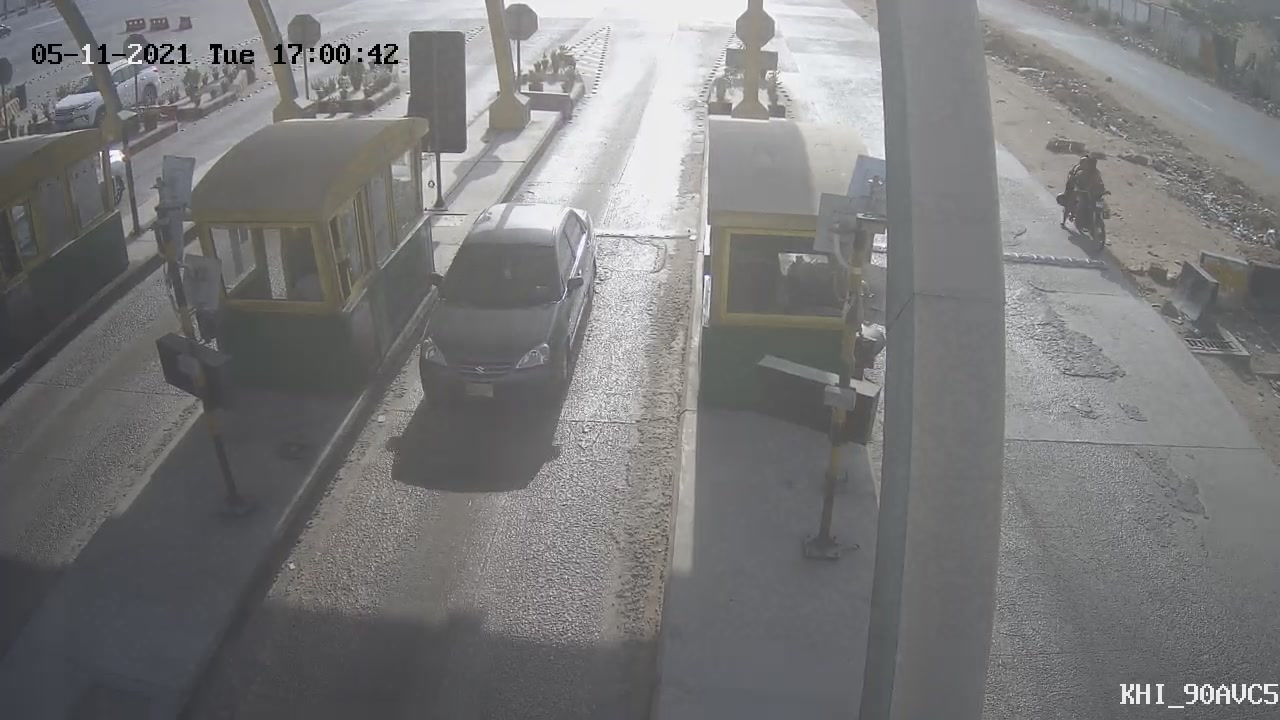F1: (401, 185, 622, 434)
